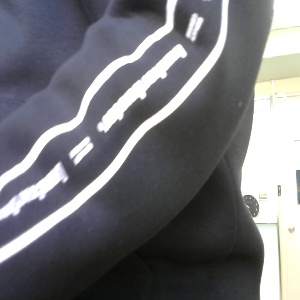Drone: (234, 140, 298, 300)
